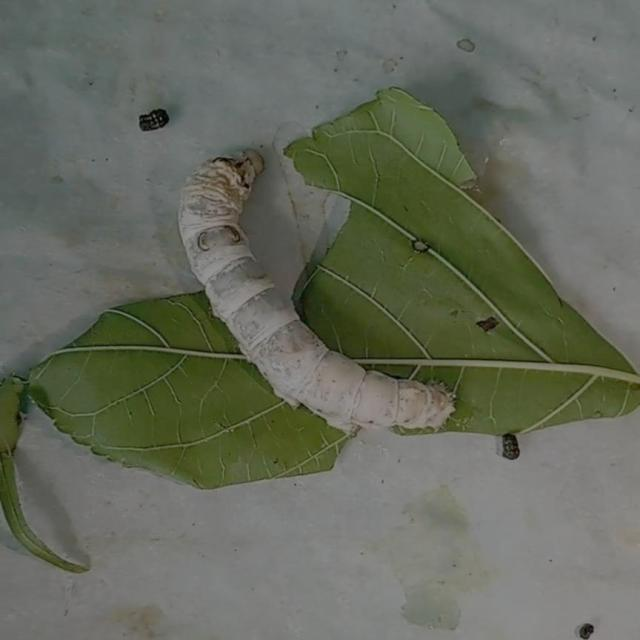Grasserie: (153, 124, 469, 452)
